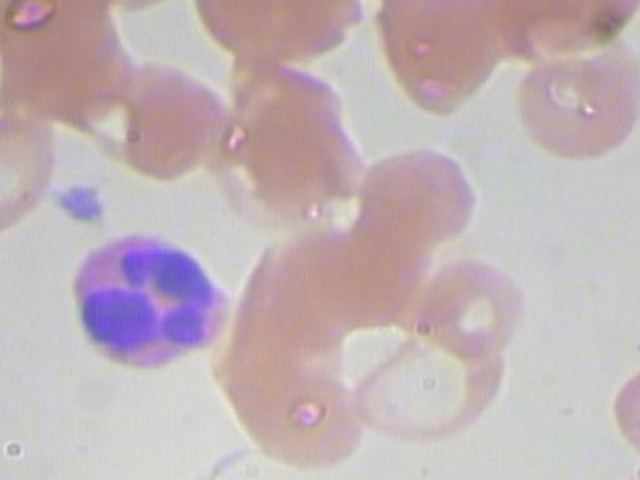Platelets: (40, 174, 110, 235)
RBC: (345, 312, 517, 455), (202, 333, 374, 476), (503, 27, 640, 169), (359, 0, 504, 130), (226, 216, 359, 349), (94, 55, 227, 187), (230, 83, 363, 215), (347, 137, 497, 251), (419, 251, 533, 364), (182, 0, 359, 70), (459, 0, 640, 62), (0, 101, 63, 234), (597, 351, 640, 465), (57, 0, 195, 25), (0, 0, 41, 62)
WBC: (61, 231, 246, 373)
